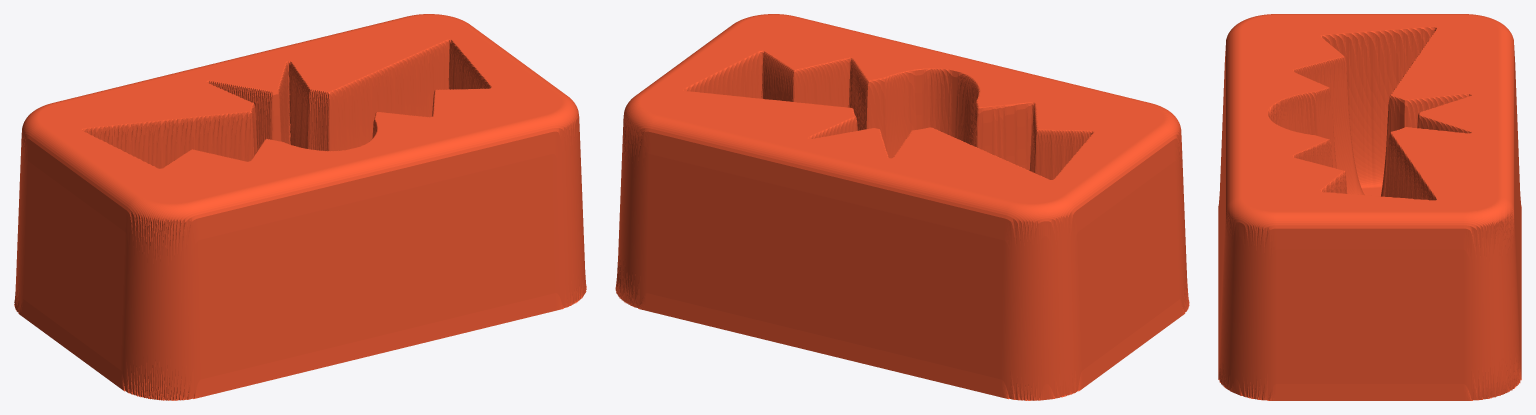
The model's file is mold.glb.
The picture shows the model from 3 angles, left to right: view 1: azimuth 30°, elevation 25°; view 2: azimuth 150°, elevation 25°; view 3: azimuth 270°, elevation 25°; orthographic projection. The views are drawn at different scales.
Parts seen in each view (by area): view 1: geometry_0; view 2: geometry_0; view 3: geometry_0.
Boxes of the visible parts, <box> form: geometry_0: <box>14,14,586,400</box>; geometry_0: <box>615,14,1189,400</box>; geometry_0: <box>1218,14,1521,400</box>.
Bounding box in the file's own units: 0.0798 × 0.031 × 0.0474.
